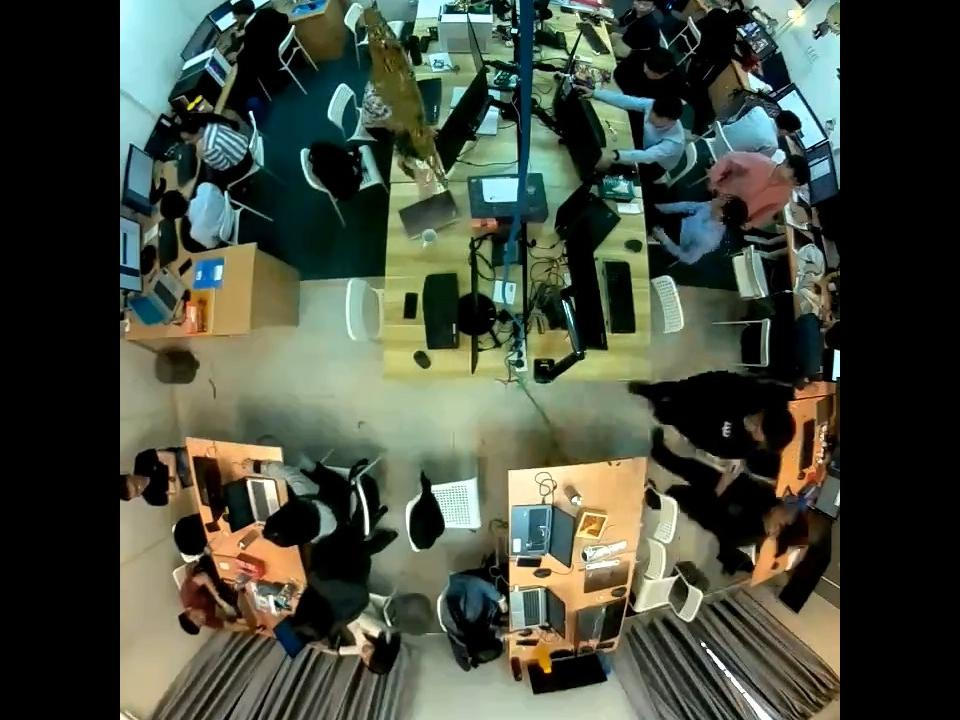name-tag: (718, 416, 734, 441)
